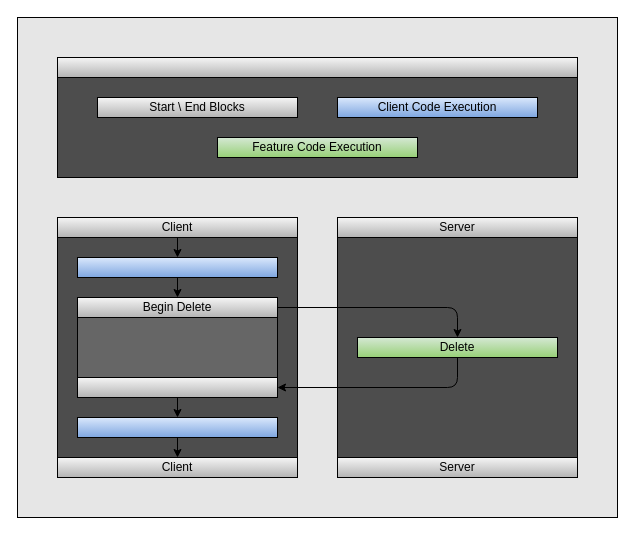
Image size: 635x535. Some labels were removed from this diagram. Here are the shapes that lost their labels. From the top down, the box of each, then its label:
(56, 56, 578, 78): Legend
(76, 256, 278, 278): Generate Json Request Data
(76, 376, 278, 398): End Delete
(76, 416, 278, 438): Manipulate Json Response Data
